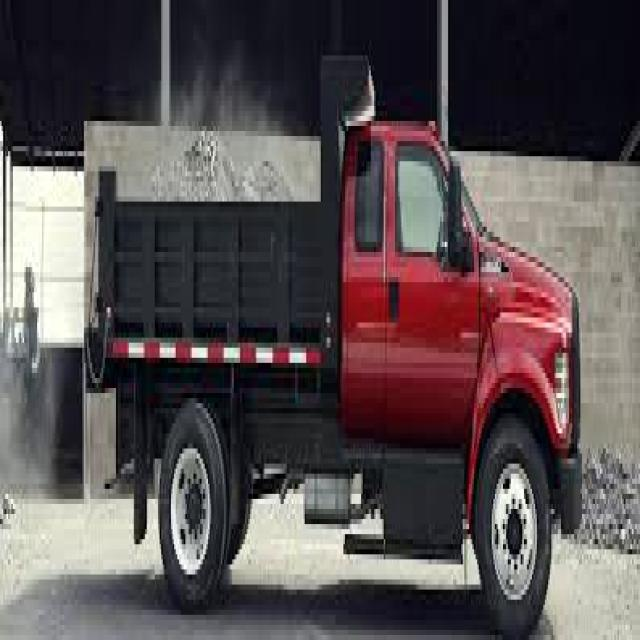dump_truck: (73, 70, 583, 640)
